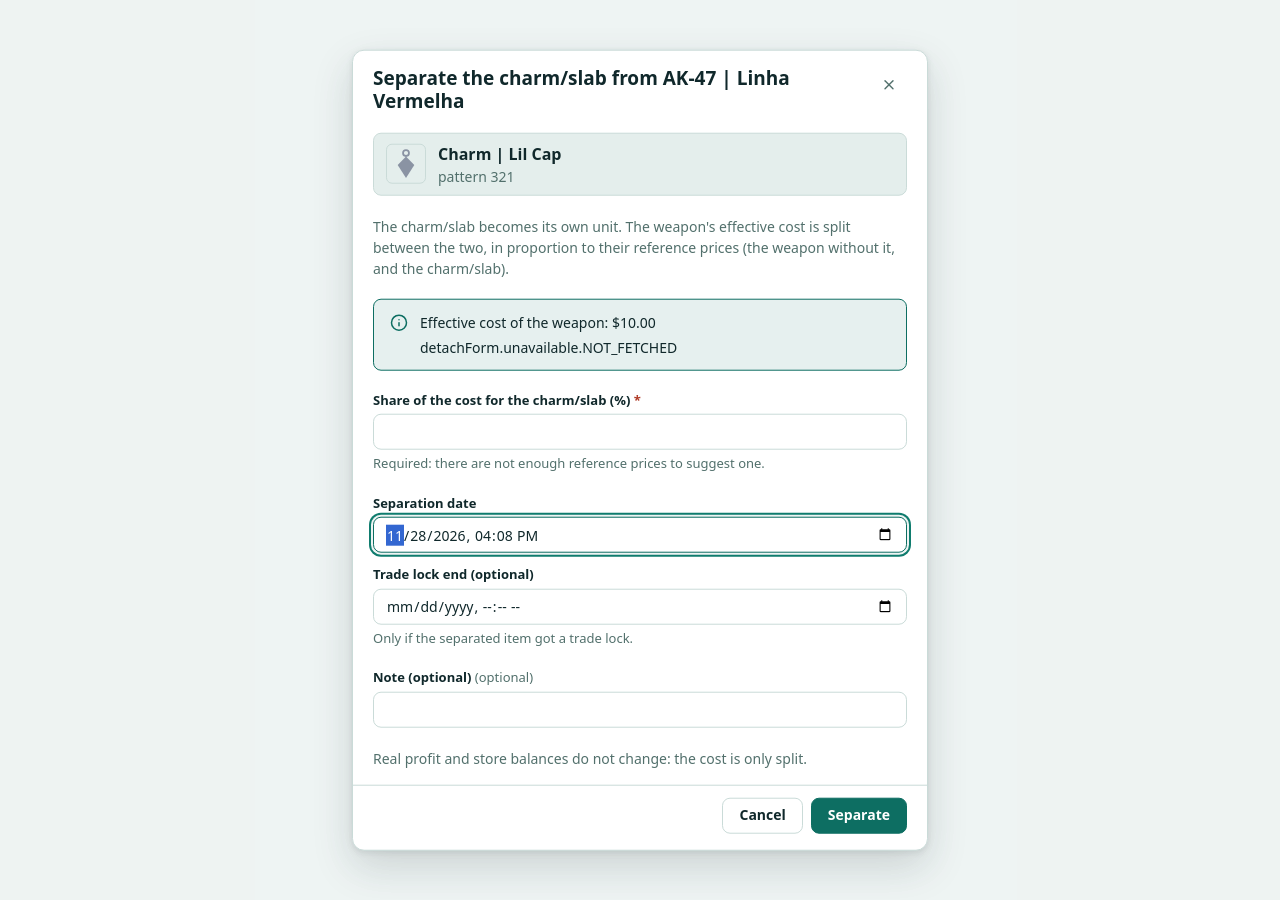
Test: DetachComponentModal › modo SPLIT sem sugestão: a porcentagem é obrigatória e o envio sem ela mostra o erro no campo
Click the button "Separate".
click(859, 815)  # box [811,797,907,833]
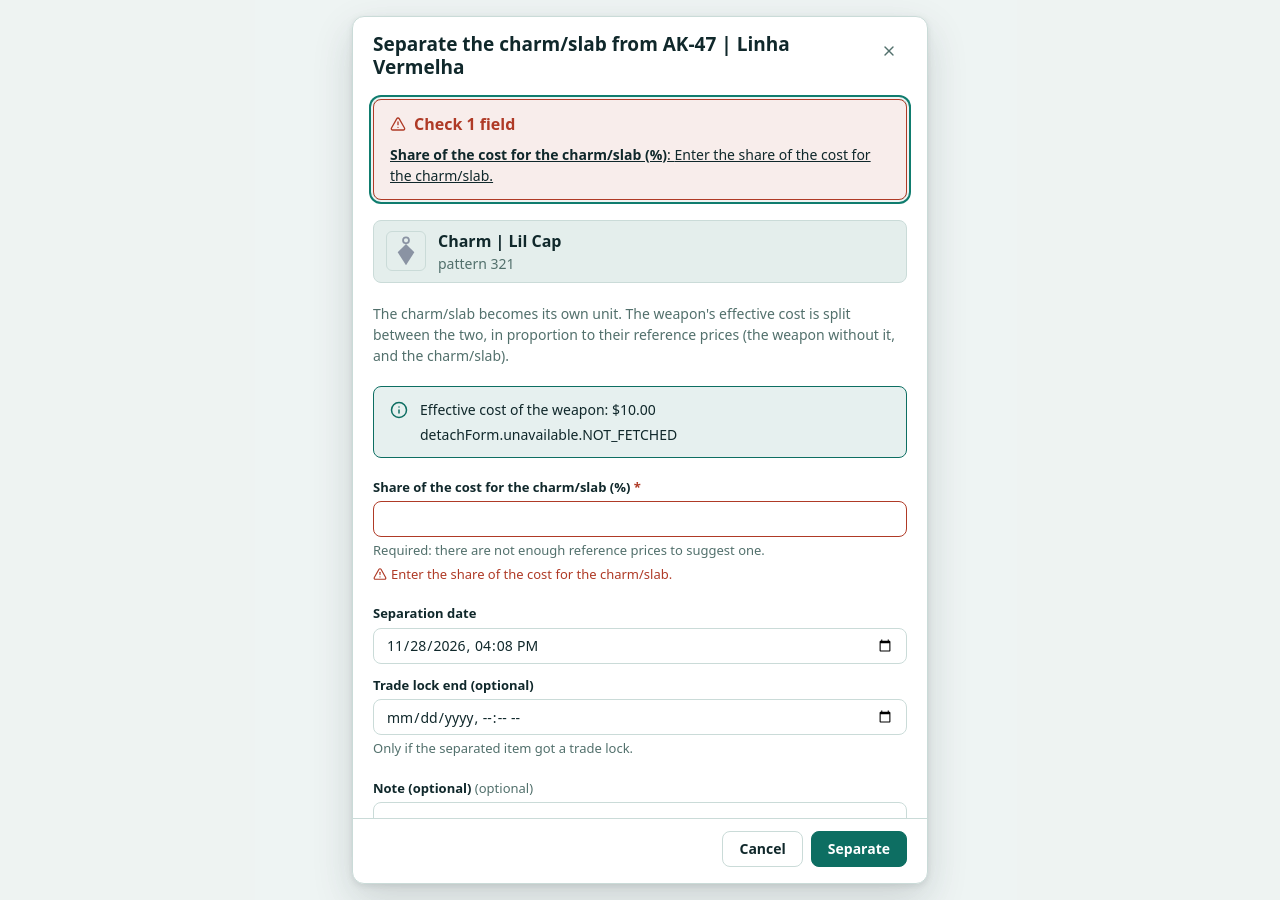
expect the message that starts with "Check 1 field" is shown: met, box [373,99,907,200]
